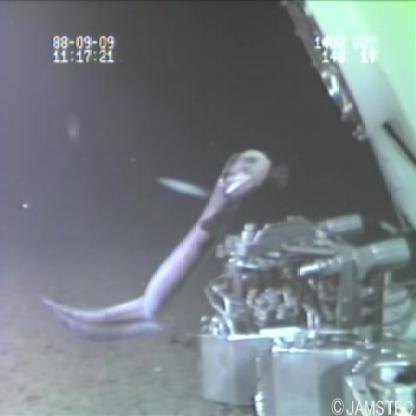Bio: (38, 145, 276, 350)
Rov: (194, 211, 415, 416)
